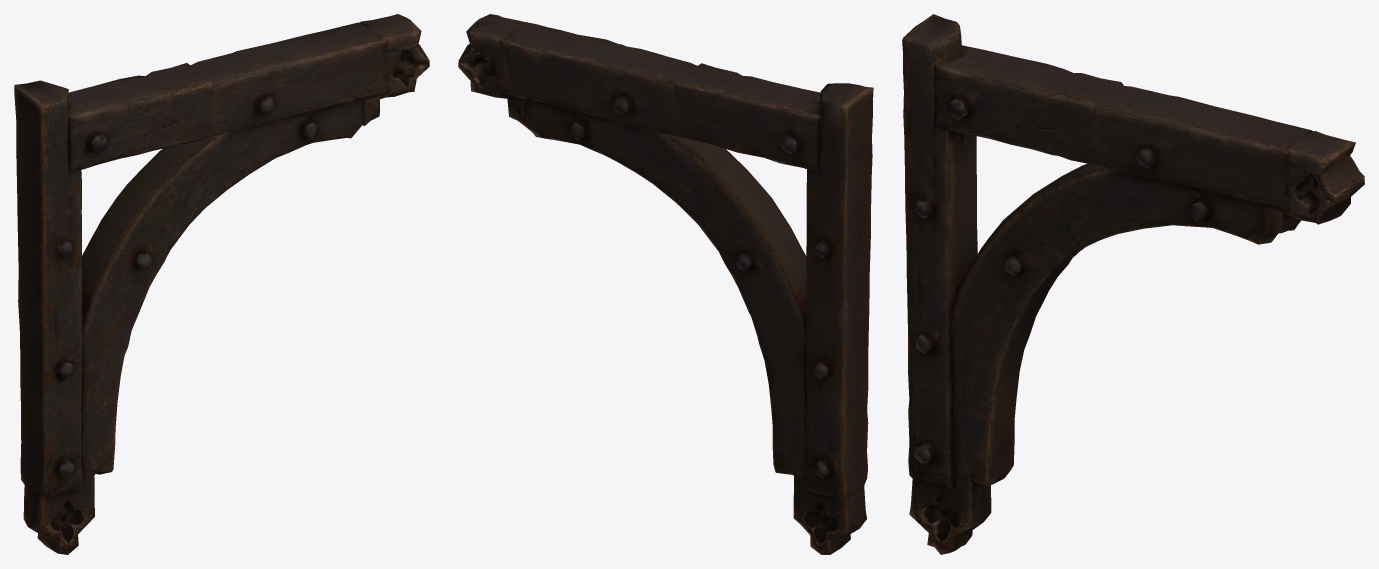
The model's file is brace.glb.
3 renders of one model, left to right at view 1: azimuth 30°, elevation 25°; view 2: azimuth 150°, elevation 25°; view 3: azimuth 330°, elevation 25°, orthographic. The views are drawn at different scales.
Visible parts, largest first — view 1: brace; view 2: brace; view 3: brace.
Boxes of the visible parts, bbox=[...] form: brace: bbox=[14, 14, 429, 554]; brace: bbox=[458, 14, 873, 554]; brace: bbox=[902, 14, 1364, 554].
Bounding box in the file's own units: 1.68 × 1.9 × 0.2941.
1 material, 1 textured.
